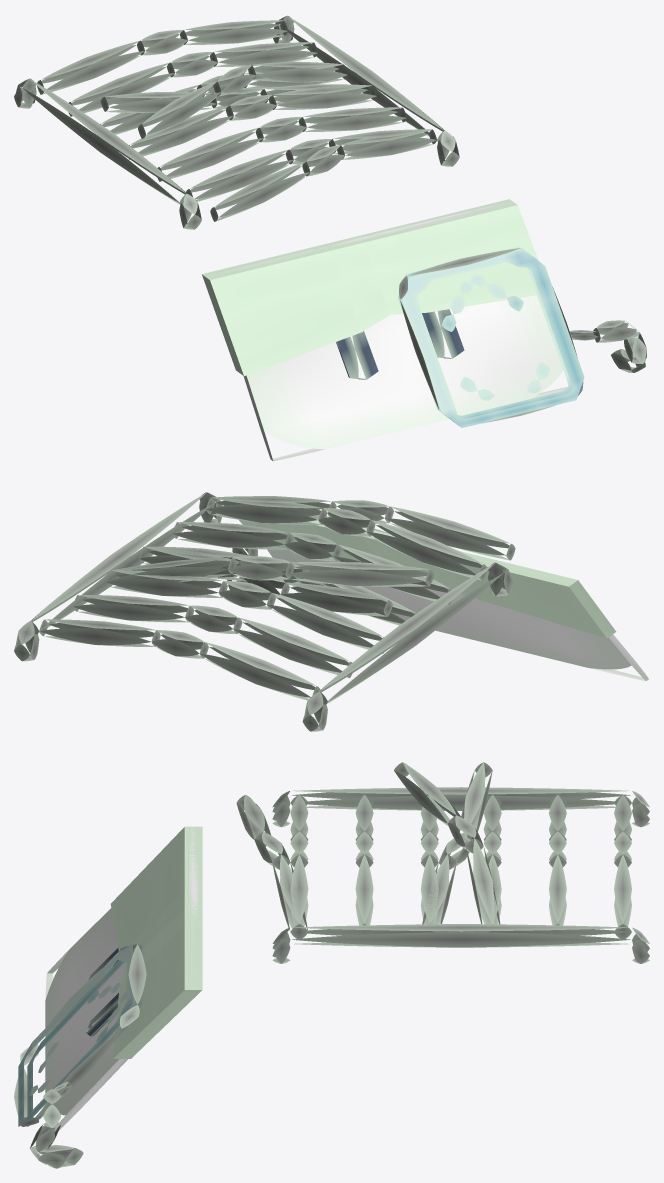
File: saturn_zundapp.obj
The picture shows the model from 3 angles, top to bottom: view 1: azimuth 30°, elevation 25°; view 2: azimuth 150°, elevation 25°; view 3: azimuth 270°, elevation 25°; orthographic projection. The views are drawn at different scales.
Parts seen in each view (by area): view 1: roofrack, eyelids, eyes, roofrack_zundapp, monocle_glass_translucent, monocle, eye_pupils; view 2: roofrack, roofrack_zundapp, eyes, eyelids; view 3: roofrack, eyelids, eyes, roofrack_zundapp, monocle, monocle_glass_translucent, eye_pupils.
Part boxes in pixels (bbox=[...]): roofrack: bbox=[14, 15, 459, 229]; eyelids: bbox=[202, 199, 538, 376]; eyes: bbox=[212, 203, 567, 461]; roofrack_zundapp: bbox=[100, 61, 436, 221]; monocle_glass_translucent: bbox=[398, 246, 584, 427]; monocle: bbox=[399, 248, 646, 423]; eye_pupils: bbox=[336, 309, 464, 379]; roofrack: bbox=[14, 492, 512, 731]; roofrack_zundapp: bbox=[107, 496, 515, 616]; eyes: bbox=[267, 519, 648, 681]; eyelids: bbox=[233, 496, 616, 638]; roofrack: bbox=[272, 787, 649, 963]; eyelids: bbox=[110, 826, 202, 1058]; eyes: bbox=[45, 830, 198, 1131]; roofrack_zundapp: bbox=[236, 762, 500, 931]; monocle: bbox=[14, 944, 146, 1168]; monocle_glass_translucent: bbox=[18, 944, 141, 1126]; eye_pupils: bbox=[86, 948, 118, 1036].
Bounding box in the file's own units: 1.61 × 0.875 × 2.21.
